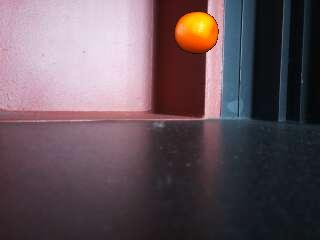Orange: (176, 11, 219, 54)
